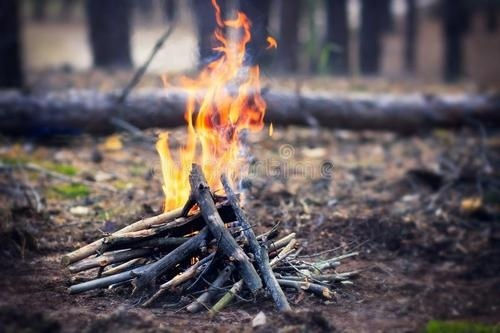fire: (153, 2, 274, 208)
